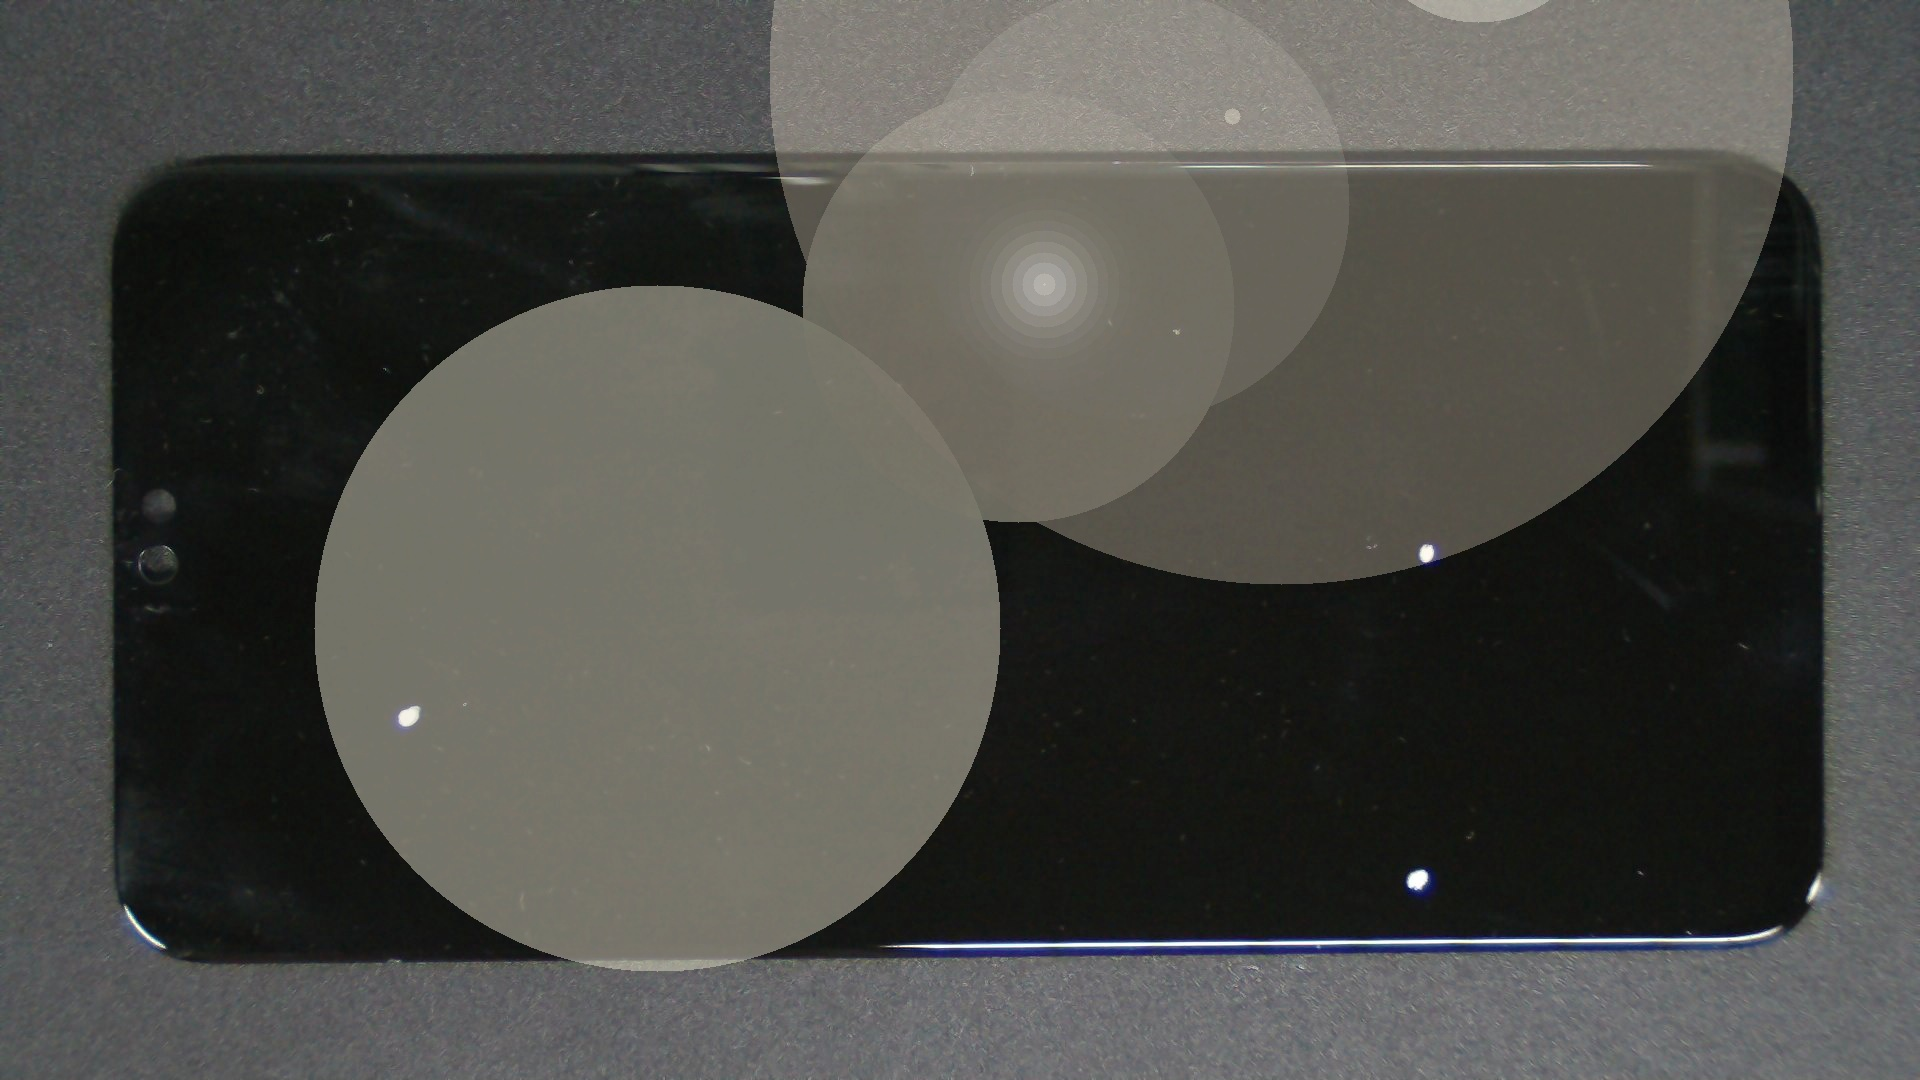oil: (709, 434, 1920, 1080), (715, 270, 1920, 814), (206, 352, 615, 1059)
